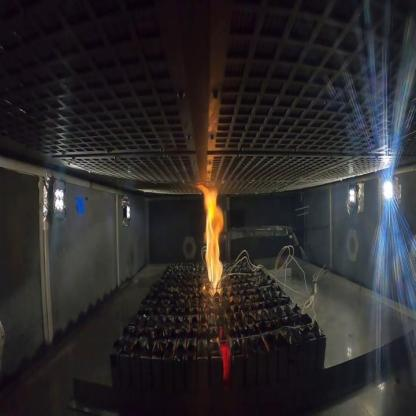fire: (195, 175, 229, 290)
